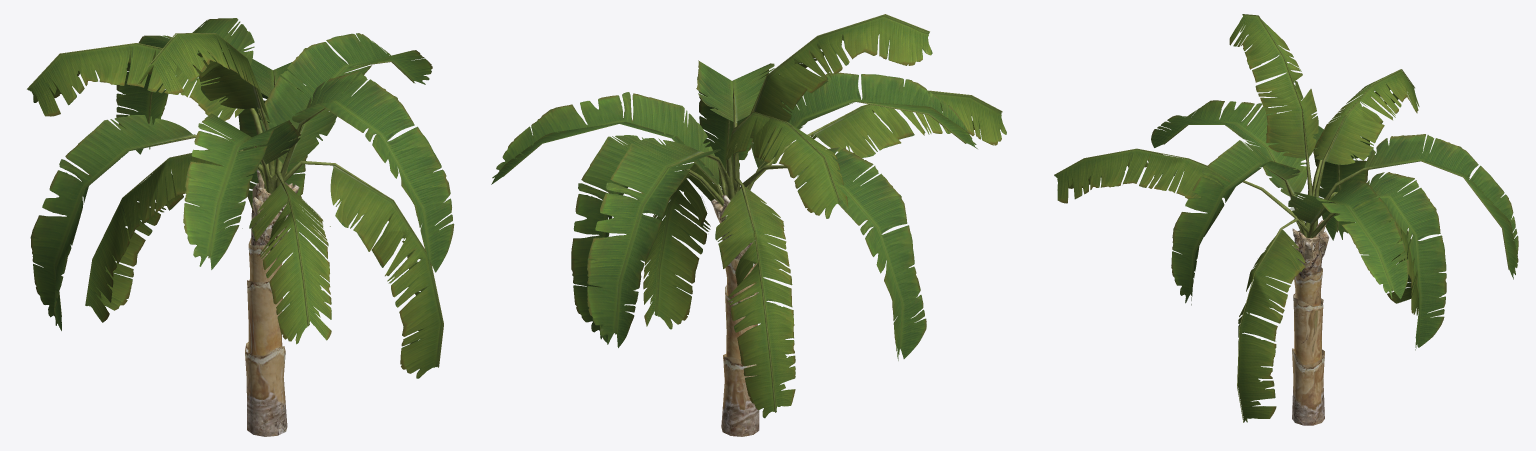
The model's file is BananaPlant01.dae.
3 renders of one model, left to right at view 1: azimuth 30°, elevation 25°; view 2: azimuth 150°, elevation 25°; view 3: azimuth 270°, elevation 25°, orthographic. The views are drawn at different scales.
Parts seen in each view (by area): view 1: polySurface77; view 2: polySurface77; view 3: polySurface77.
Boxes of the visible parts, box(x1,y1,x2,y2) form: polySurface77: box(27, 18, 454, 436); polySurface77: box(491, 14, 1006, 436); polySurface77: box(1054, 14, 1518, 425).
Bounding box in the file's own units: 4.68 × 4.75 × 5.79.
1 material, 1 textured.
